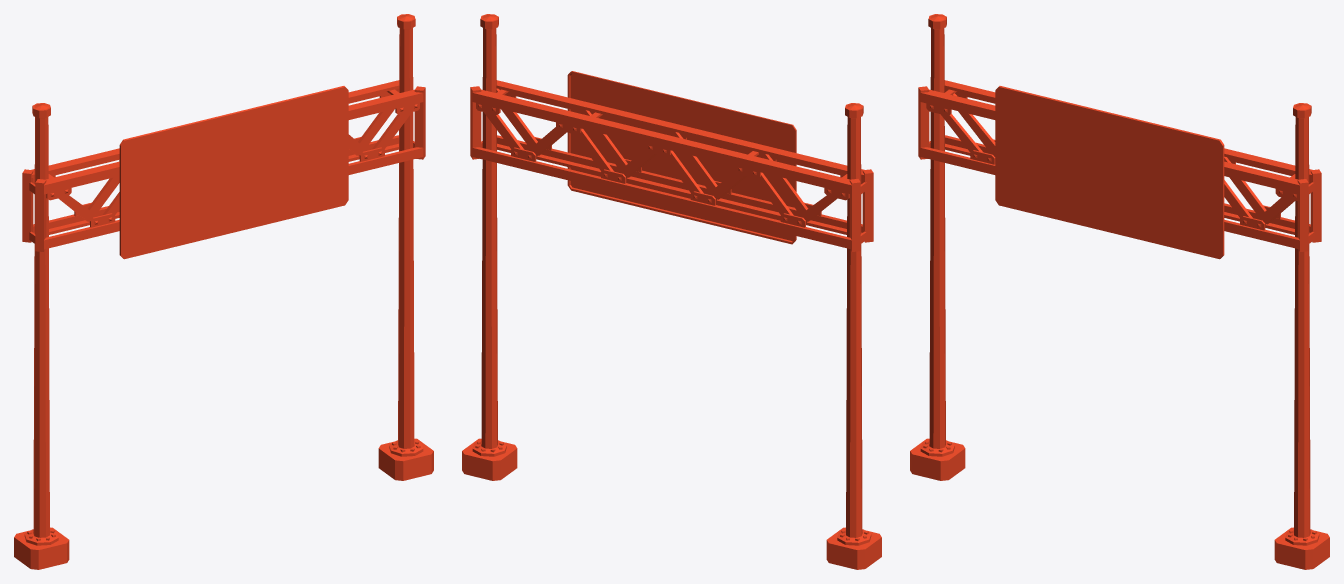
Rendered from SM_Sign_Gantry_Small_B_City.fbx.
3 views of the same model, side by side, from view 1: azimuth 30°, elevation 25°; view 2: azimuth 150°, elevation 25°; view 3: azimuth 330°, elevation 25° (orthographic).
Visible parts, largest first — view 1: SM_Sign_Gantry_Small_B_City; view 2: SM_Sign_Gantry_Small_B_City; view 3: SM_Sign_Gantry_Small_B_City.
Part boxes in pixels (x1,y1,x2,y2): SM_Sign_Gantry_Small_B_City: [14, 14, 433, 569]; SM_Sign_Gantry_Small_B_City: [462, 14, 881, 569]; SM_Sign_Gantry_Small_B_City: [910, 14, 1329, 569].
Bounding box in the file's own units: 8.85 × 9.5 × 0.8509.
